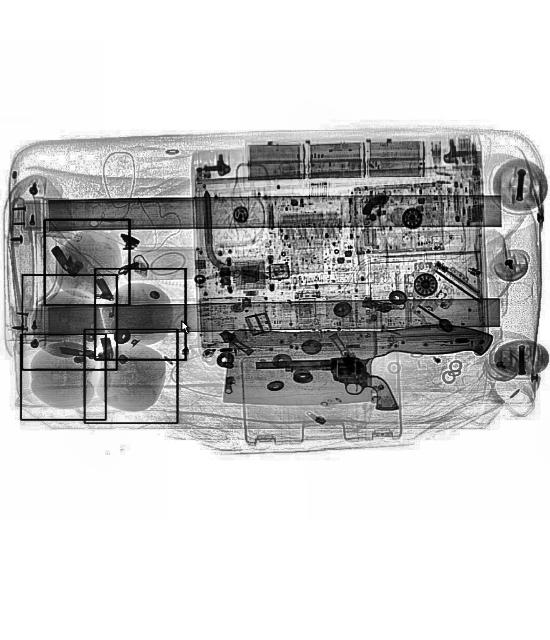Gun: (253, 354, 401, 416)
Knife: (222, 324, 491, 406)
